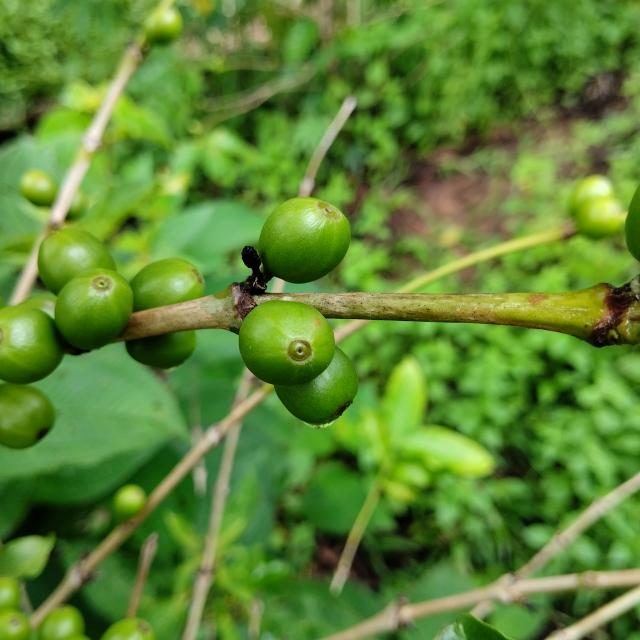green: (239, 300, 335, 386), (258, 197, 351, 283), (274, 347, 358, 428), (54, 268, 133, 350), (37, 227, 116, 295), (0, 304, 64, 384), (130, 259, 204, 311), (0, 383, 54, 449), (125, 331, 196, 369)
